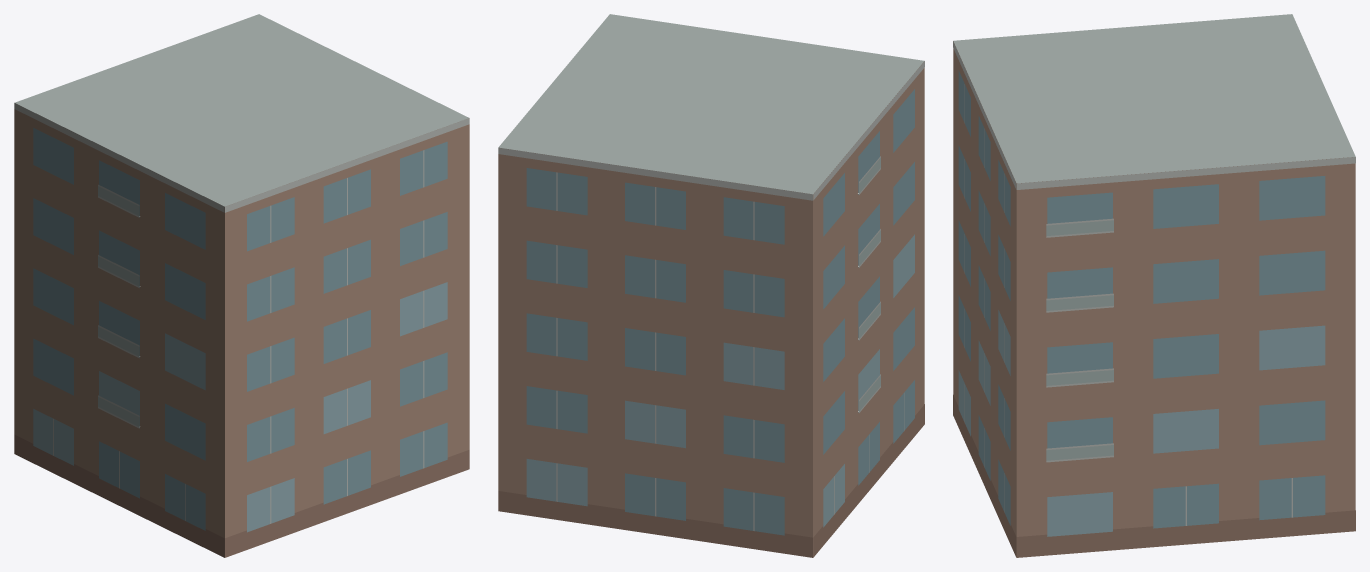
Rendered from survey-upis-32618757.glb.
3 renders of one model, left to right at view 1: azimuth 30°, elevation 25°; view 2: azimuth 150°, elevation 25°; view 3: azimuth 270°, elevation 25°, orthographic. The views are drawn at different scales.
Visible parts, largest first — view 1: survey-upis-32618757.tmp; view 2: survey-upis-32618757.tmp; view 3: survey-upis-32618757.tmp.
Boxes of the visible parts, x1,y1,x2,y2 form: survey-upis-32618757.tmp: [14, 14, 469, 557]; survey-upis-32618757.tmp: [498, 14, 924, 557]; survey-upis-32618757.tmp: [953, 14, 1355, 557].
Size of the model in its own units: 13.31 by 13.7 by 13.36.
